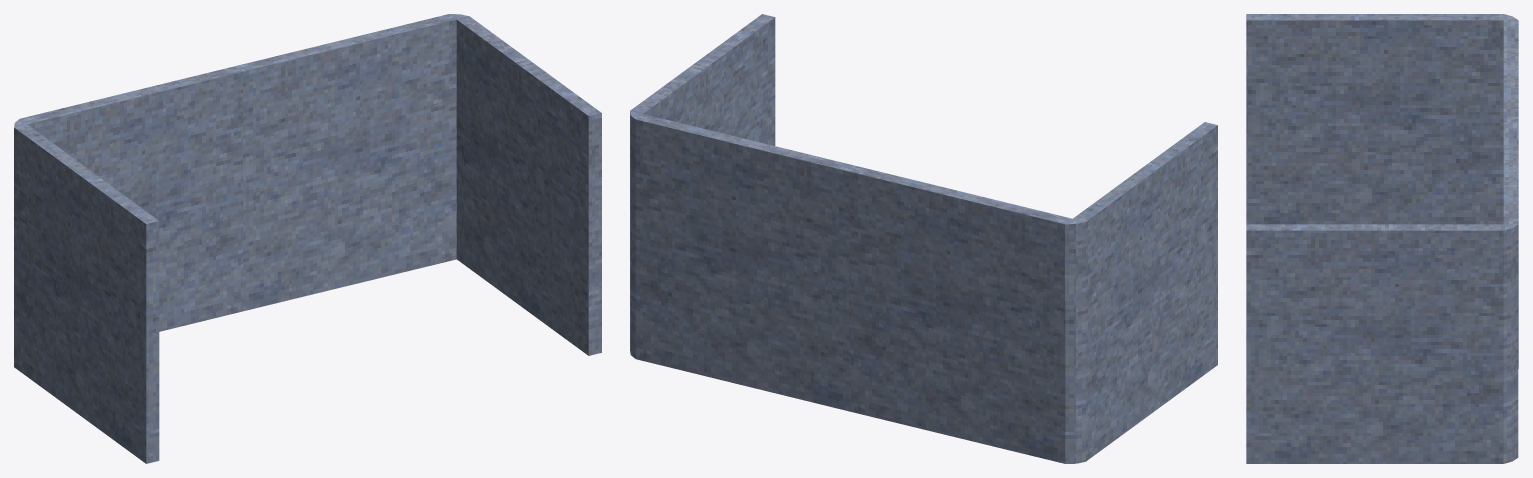
File: divider_full_c_blue.glb
3 renders of one model, left to right at view 1: azimuth 30°, elevation 25°; view 2: azimuth 150°, elevation 25°; view 3: azimuth 270°, elevation 25°, orthographic. The views are drawn at different scales.
Parts seen in each view (by area): view 1: divider_full_c_blue; view 2: divider_full_c_blue; view 3: divider_full_c_blue.
Boxes of the visible parts, x1,y1,x2,y2 form: divider_full_c_blue: (14,14,601,463); divider_full_c_blue: (630,14,1217,463); divider_full_c_blue: (1246,14,1518,463).
Bounding box in the file's own units: 2.99 × 1.5 × 1.59.
1 material, 1 textured.
